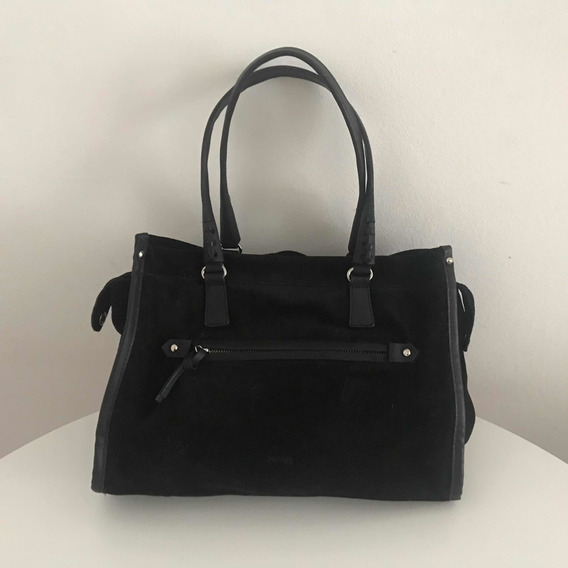cartera: (90, 47, 477, 505)
